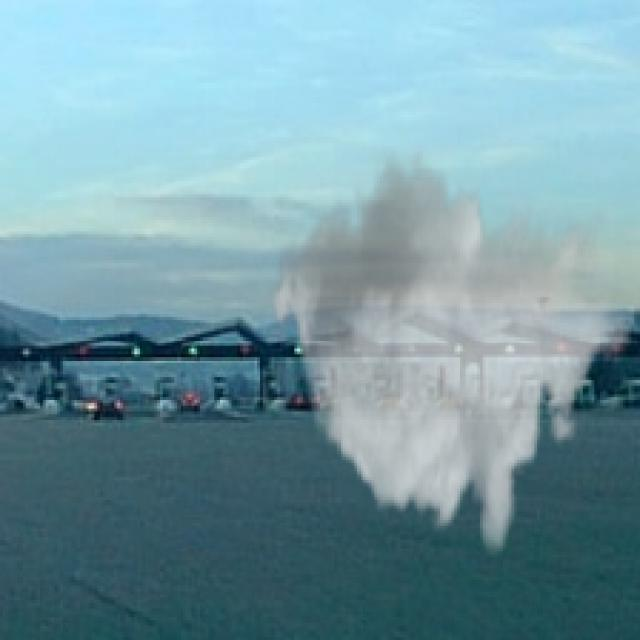smoke: (269, 146, 634, 560)
